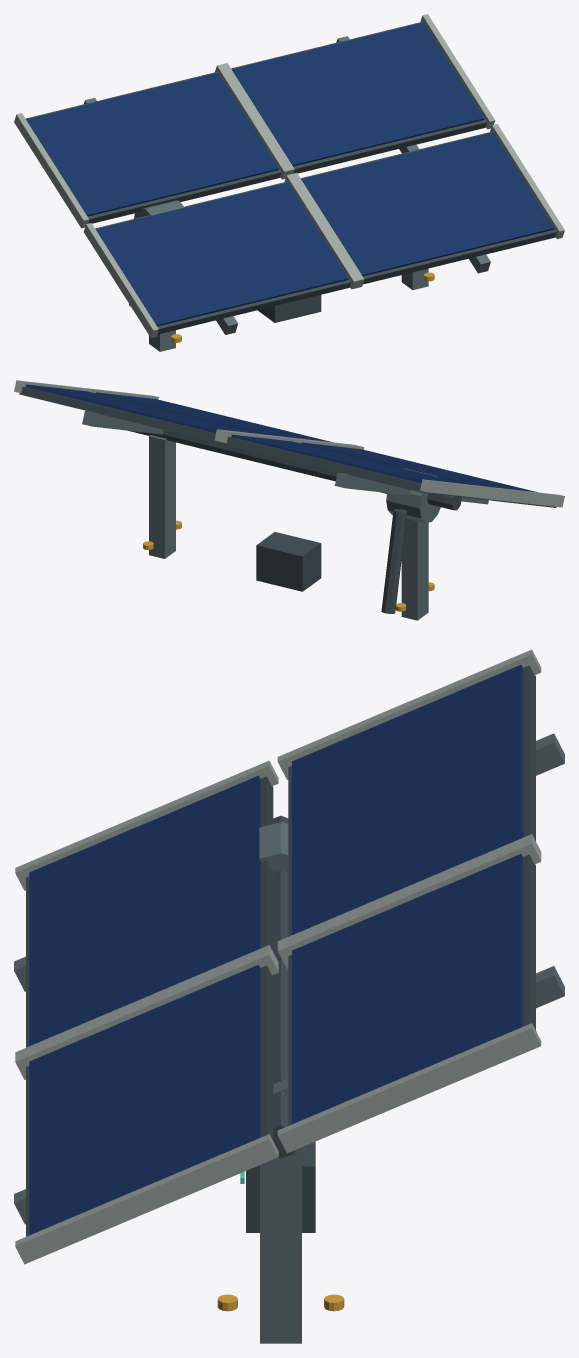
File: solar_panel_rack_d0.glb
3 views of the same model, one above another, from view 1: azimuth 30°, elevation 25°; view 2: azimuth 150°, elevation 25°; view 3: azimuth 270°, elevation 25° (orthographic). The views are drawn at different scales.
Visible parts, largest first — view 1: SOLAR_GAME_MESH_001, SOLAR_GAME_MESH; view 2: SOLAR_GAME_MESH_001, SOLAR_GAME_MESH; view 3: SOLAR_GAME_MESH_001, SOLAR_GAME_MESH.
Part boxes in pixels (bbox=[...]): SOLAR_GAME_MESH_001: bbox=[14, 14, 564, 338]; SOLAR_GAME_MESH: bbox=[129, 200, 434, 351]; SOLAR_GAME_MESH_001: bbox=[14, 380, 564, 507]; SOLAR_GAME_MESH: bbox=[128, 430, 461, 620]; SOLAR_GAME_MESH_001: bbox=[14, 649, 564, 1264]; SOLAR_GAME_MESH: bbox=[217, 815, 344, 1343].
Size of the model in its own units: 4.88 by 2.29 by 3.
